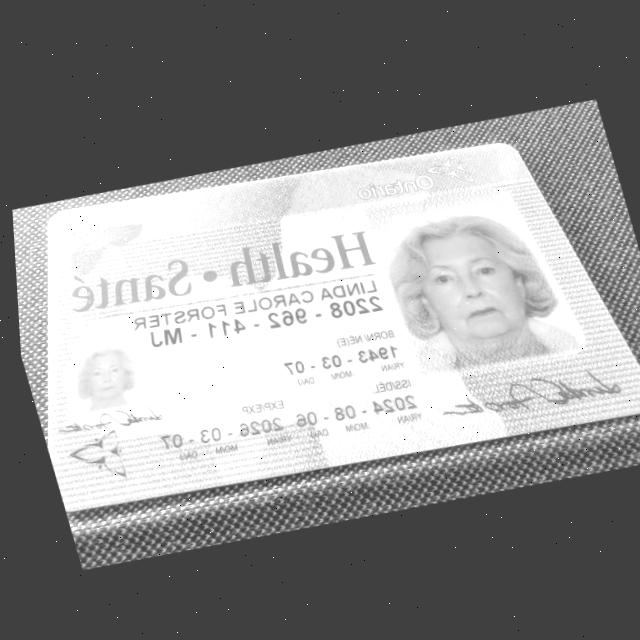card: (48, 145, 639, 511)
